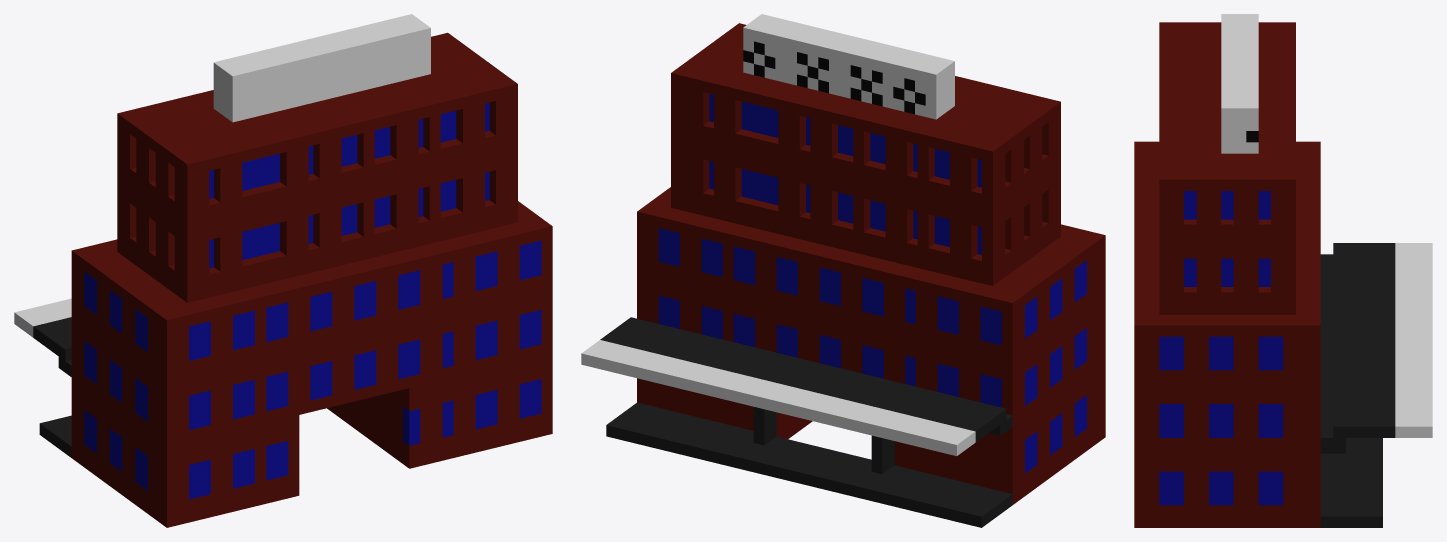
File: Company_obj.obj
3 renders of one model, left to right at view 1: azimuth 30°, elevation 25°; view 2: azimuth 150°, elevation 25°; view 3: azimuth 270°, elevation 25°, orthographic. The views are drawn at different scales.
Visible parts, largest first — view 1: 立方体.8882; view 2: 立方体.8882; view 3: 立方体.8882.
Part boxes in pixels (x1=…): 立方体.8882: x1=14, y1=14, x2=552, y2=527; 立方体.8882: x1=581, y1=14, x2=1105, y2=527; 立方体.8882: x1=1134, y1=14, x2=1432, y2=527.
Size of the model in its own units: 35 by 34 by 24.
